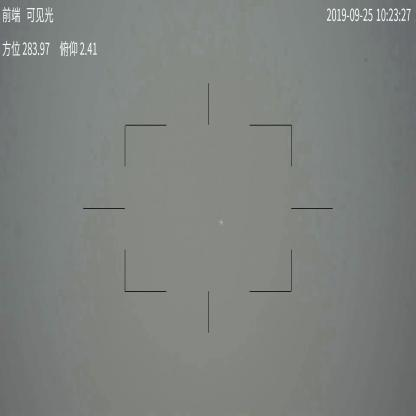uav: (218, 219, 224, 226)
